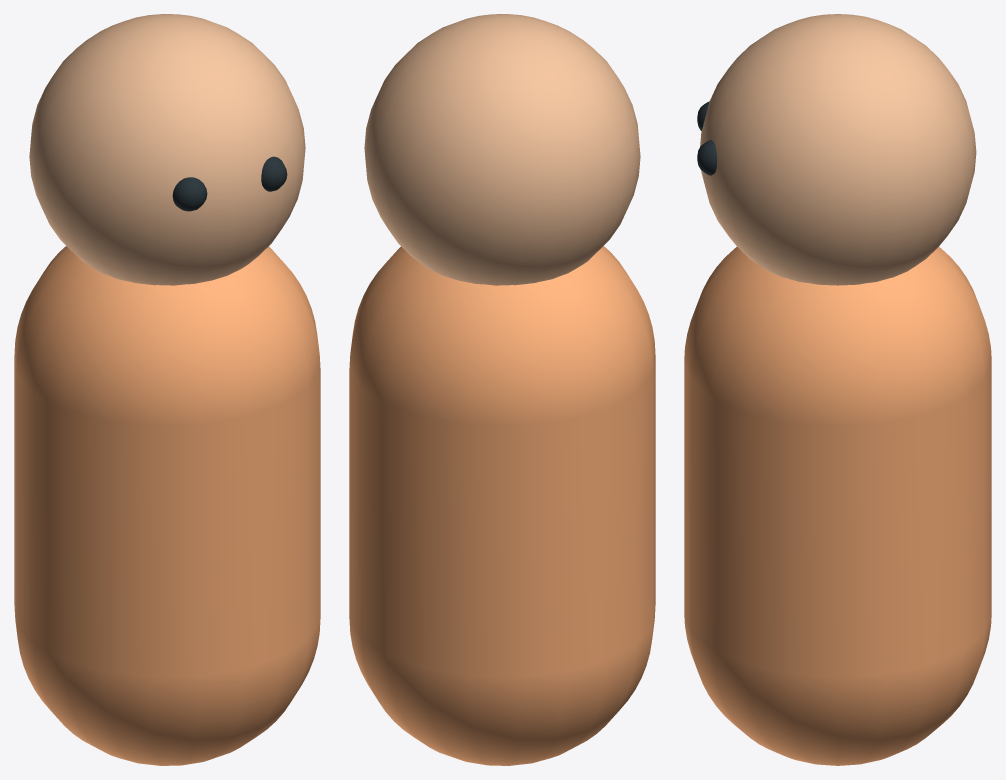
File: bata.glb
3 views of the same model, side by side, from view 1: azimuth 30°, elevation 25°; view 2: azimuth 150°, elevation 25°; view 3: azimuth 270°, elevation 25° (orthographic).
Bounding box in the file's own units: 1 × 2.6 × 1.
